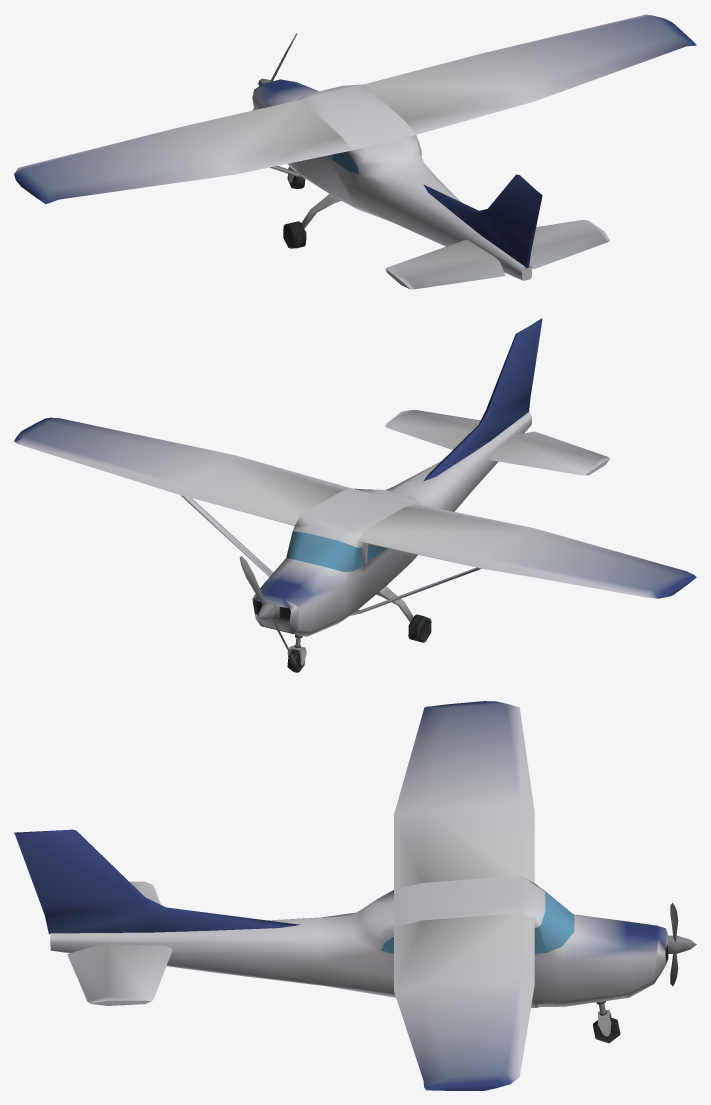
3 views of the same model, one above another, from view 1: azimuth 30°, elevation 25°; view 2: azimuth 150°, elevation 25°; view 3: azimuth 270°, elevation 25° (orthographic). The views are drawn at different scales.
Parts seen in each view (by area): view 1: awionetka_airplane_0; view 2: awionetka_airplane_0; view 3: awionetka_airplane_0.
Part boxes in pixels (box(x1,y1,x2,y2)): awionetka_airplane_0: box(14, 14, 696, 289); awionetka_airplane_0: box(14, 318, 696, 672); awionetka_airplane_0: box(14, 701, 696, 1090).
Bounding box in the file's own units: 1.33 × 0.3434 × 1.
